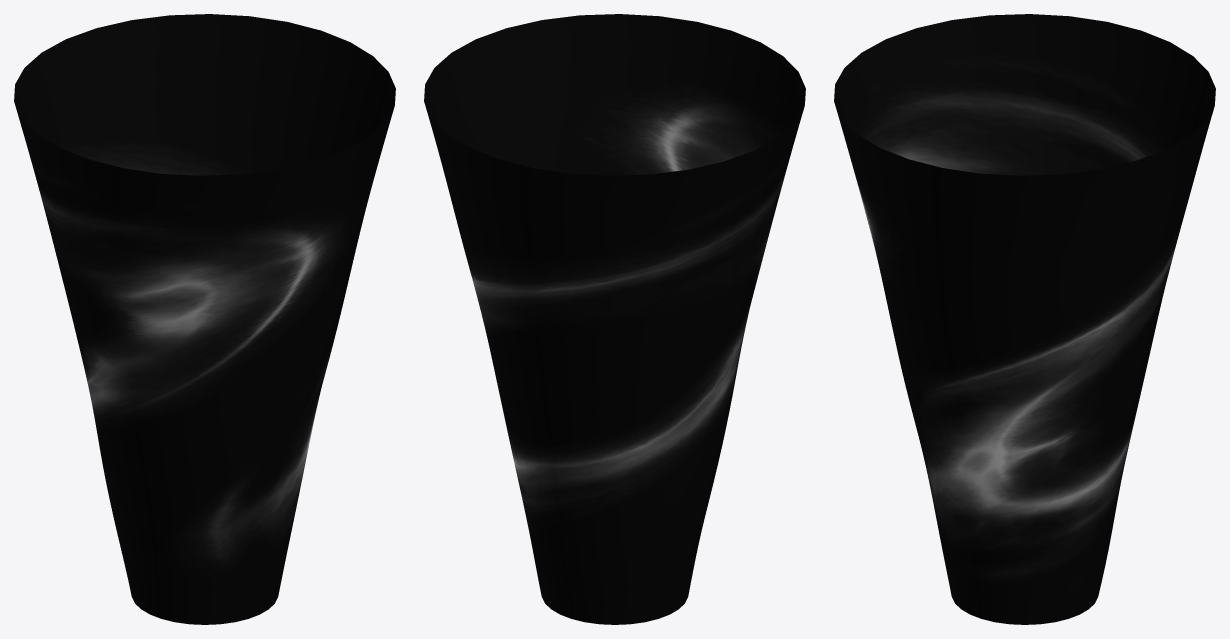
The model's file is 0091_M_feng.glb.
3 renders of one model, left to right at view 1: azimuth 30°, elevation 25°; view 2: azimuth 150°, elevation 25°; view 3: azimuth 270°, elevation 25°, orthographic.
Size of the model in its own units: 1.53 by 2.2 by 1.53.
1 material, 1 textured.
